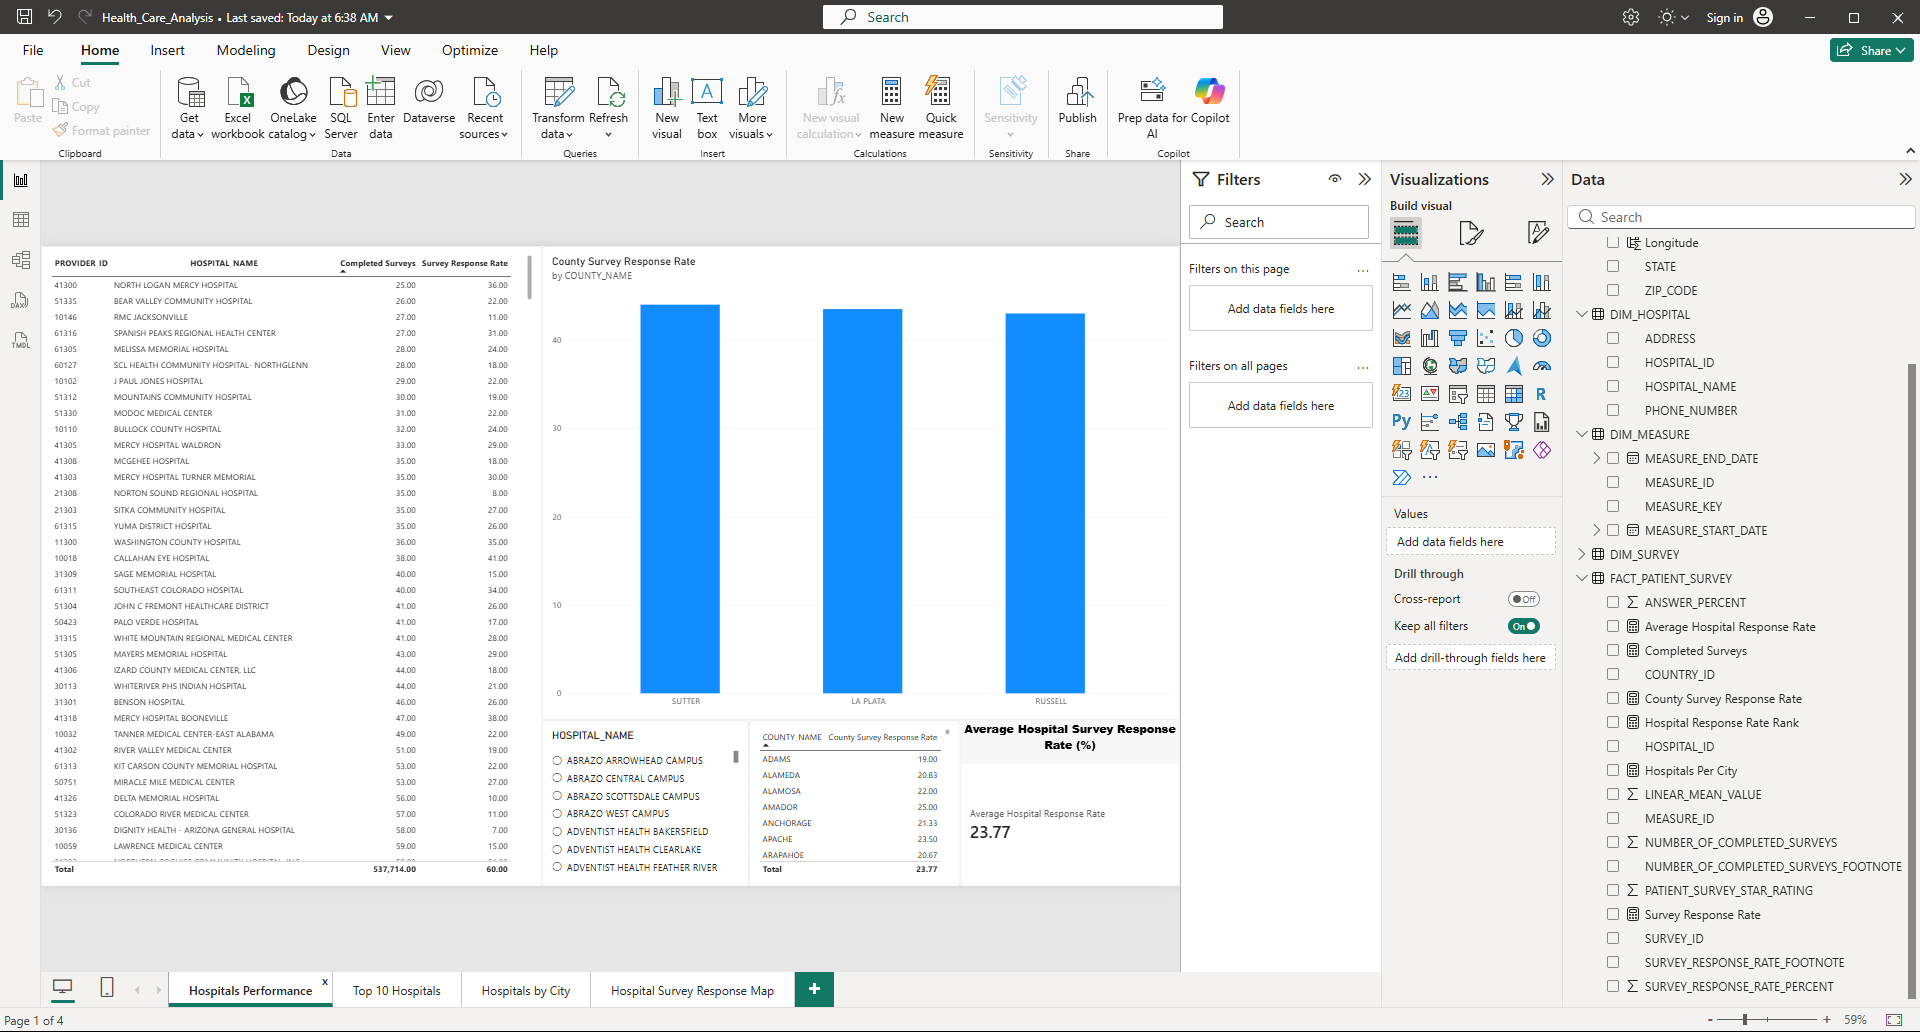

This screenshot's page, from the dashboard's own definition file:
{"tool":"powerbi","page":{"name":"Hospitals Performance","canvas":[1920,1080],"ordinal":0},"visuals":[{"type":"tableEx","fields":{"Values":["DIM_HOSPITAL.PROVIDER_ID","DIM_HOSPITAL.HOSPITAL_NAME","FACT_PATIENT_SURVEY.Completed Surveys","FACT_PATIENT_SURVEY.Survey Response Rate"]},"box":[0,0,844.5,1080.5],"z":0},{"type":"clusteredColumnChart","fields":{"Category":["DIM_COUNTRY.COUNTY_NAME"],"Y":["FACT_PATIENT_SURVEY.County Survey Response Rate"]},"box":[844.5,0,1075.5,799],"z":1000},{"type":"listSlicer","fields":{"Values":["DIM_HOSPITAL.HOSPITAL_NAME"]},"box":[844.5,799,348.9,281.5],"z":2000},{"type":"tableEx","fields":{"Values":["DIM_COUNTRY.COUNTY_NAME","FACT_PATIENT_SURVEY.County Survey Response Rate"]},"box":[1193.5,799,355.7,281.5],"z":3000},{"type":"cardVisual","title":"Average Hospital Survey Response Rate (%)","fields":{"Data":["FACT_PATIENT_SURVEY.Average Hospital Response Rate"]},"box":[1549.1,800.7,370.9,279.8],"z":3001}]}

Visuals, with their boxes on the page's 1920x1080 design canvas (x1, y1, x2, y2). These are canvas units, not pixel positions in the 1920x1032 screenshot, which may show the page scaled, cropped or inside an application window:
tableEx - DIM_HOSPITAL.PROVIDER_ID x DIM_HOSPITAL.HOSPITAL_NAME: (0, 0, 844, 1080)
clusteredColumnChart - DIM_COUNTRY.COUNTY_NAME x FACT_PATIENT_SURVEY.County Survey Response Rate: (844, 0, 1920, 799)
listSlicer - DIM_HOSPITAL.HOSPITAL_NAME: (844, 799, 1193, 1080)
tableEx - DIM_COUNTRY.COUNTY_NAME x FACT_PATIENT_SURVEY.County Survey Response Rate: (1194, 799, 1549, 1080)
"Average Hospital Survey Response Rate (%)" cardVisual: (1549, 801, 1920, 1080)
